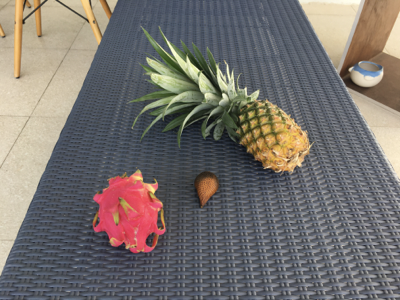dragon fruit: (92, 171, 166, 256)
pineapple: (131, 24, 311, 173)
snake fruit: (195, 171, 218, 211)
